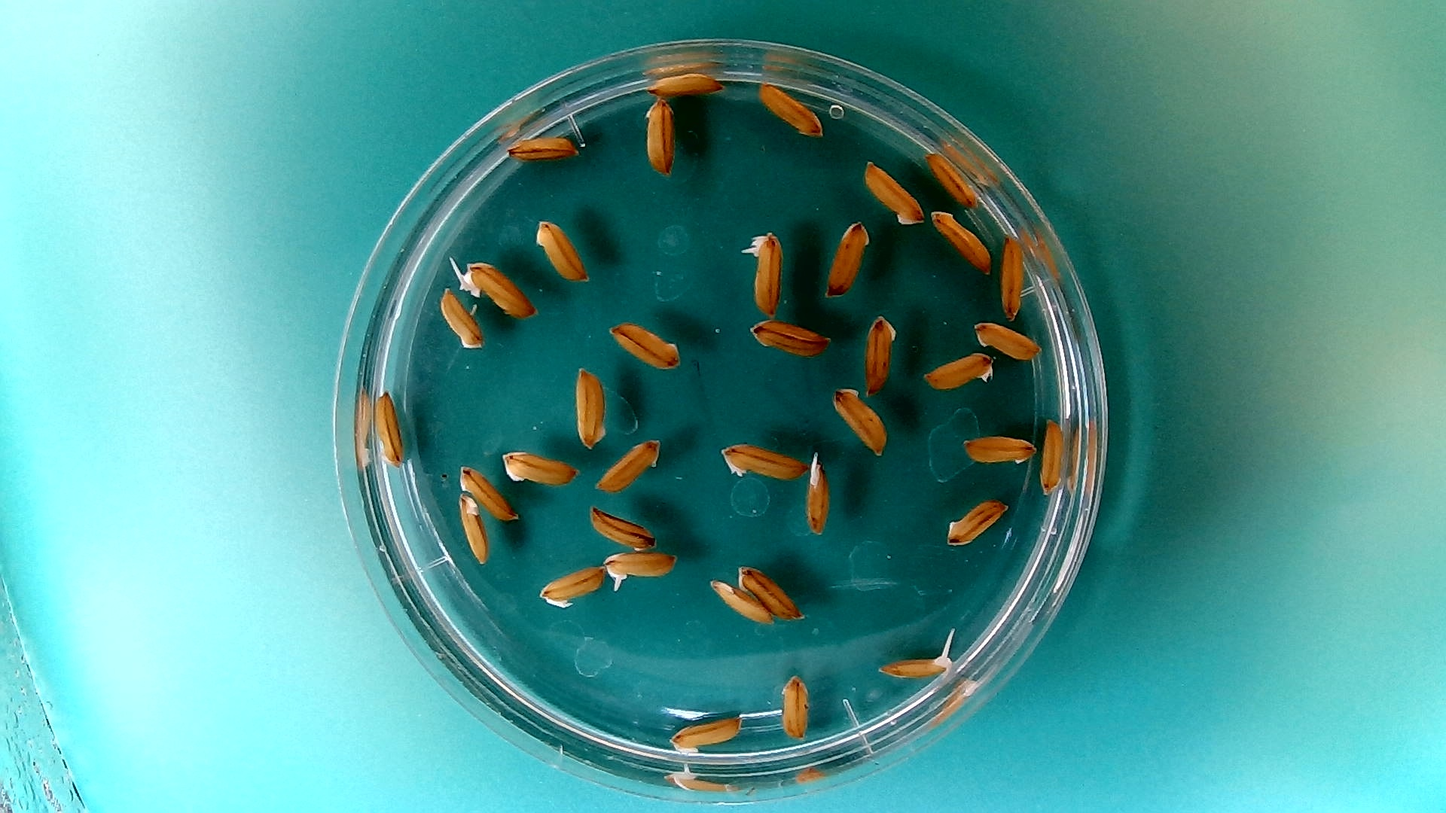no: (860, 159, 926, 228), (829, 383, 889, 458), (929, 206, 993, 273), (755, 77, 825, 137), (717, 439, 812, 483), (593, 434, 662, 494), (606, 317, 683, 370), (737, 561, 805, 621), (532, 215, 590, 284), (456, 462, 520, 522), (824, 218, 871, 297), (496, 446, 582, 489), (668, 711, 747, 757), (571, 364, 612, 451), (942, 495, 1009, 548), (536, 560, 607, 609), (746, 316, 831, 356), (706, 576, 773, 626), (920, 350, 997, 393), (923, 148, 978, 208), (436, 285, 485, 352), (586, 504, 657, 550), (959, 432, 1038, 472), (862, 311, 898, 395), (641, 93, 676, 179), (971, 318, 1042, 360), (775, 669, 815, 743), (997, 230, 1028, 322), (372, 387, 406, 470), (456, 489, 491, 568), (1036, 417, 1066, 498), (645, 69, 727, 97), (507, 131, 582, 160)
yes: (456, 252, 541, 321), (739, 227, 786, 319), (601, 546, 687, 595), (874, 650, 959, 681), (802, 454, 831, 536)
